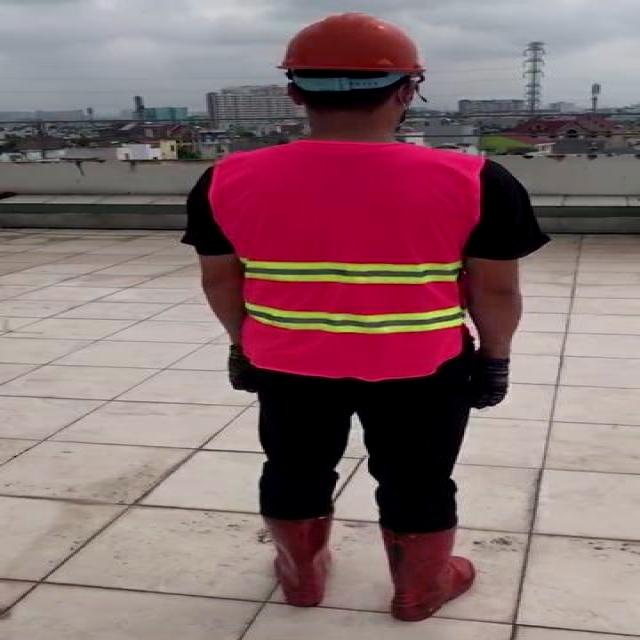boots: (381, 523, 476, 623), (260, 516, 334, 609)
hand_glove: (475, 358, 510, 408)
head_helmet: (272, 12, 427, 76)
person: (174, 10, 551, 622)
vest: (206, 142, 478, 379)
